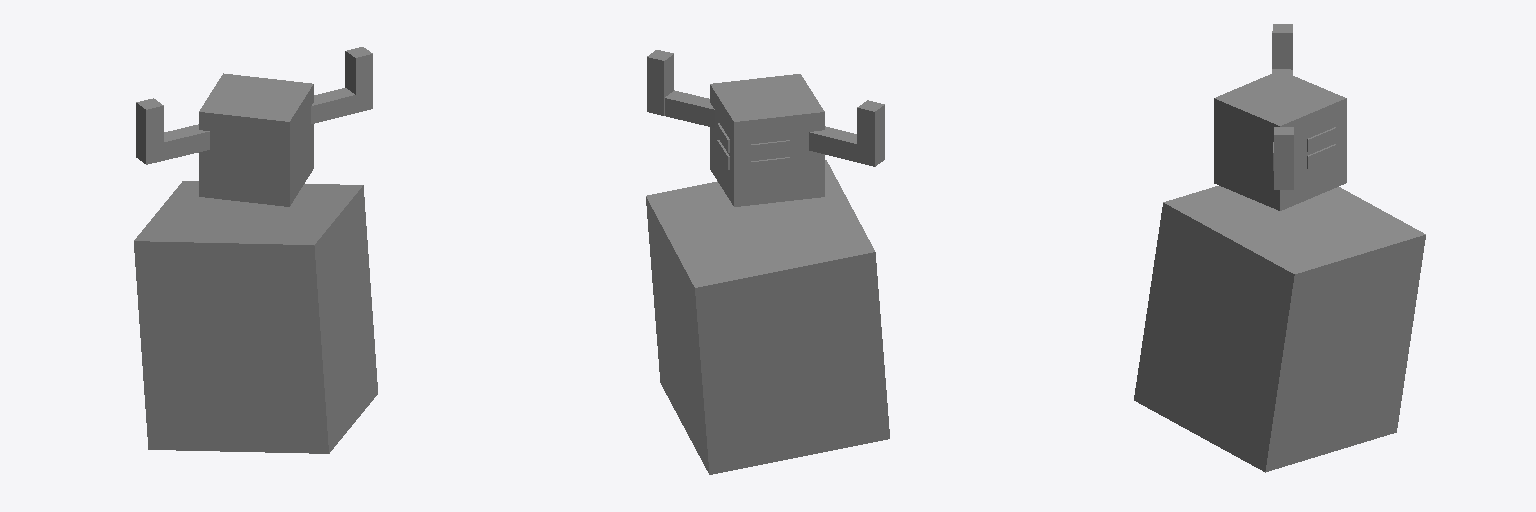
The model's file is BullDemonBot.obj.
The picture shows the model from 3 angles: view 1: azimuth 30°, elevation 25°; view 2: azimuth 150°, elevation 25°; view 3: azimuth 270°, elevation 25°; orthographic projection.
Visible parts, largest first — view 1: Body, Head, LHorn2, RHorn2, LHorn, RHorn; view 2: Body, Head, LHorn2, RHorn2, RHorn, LHorn, Cube (3), Cube (2); view 3: Body, Head, RHorn2, LHorn2.
Part boxes in pixels (x1,y1,x2,y2): Body: (134,181,377,453); Head: (199,73,313,206); LHorn2: (136,98,163,164); RHorn2: (345,47,372,112); LHorn: (164,124,209,160); RHorn: (311,88,355,123); Body: (646,160,889,474); Head: (710,74,824,206); LHorn2: (857,100,884,166); RHorn2: (647,50,673,115); RHorn: (665,90,714,127); LHorn: (809,126,856,161); Cube (3): (751,157,789,174); Cube (2): (751,140,789,157); Body: (1134,186,1425,472); Head: (1214,70,1346,210); RHorn2: (1274,127,1293,189); LHorn2: (1272,24,1292,69).
Bounding box in the file's own units: 3.46 × 5.07 × 3.81.